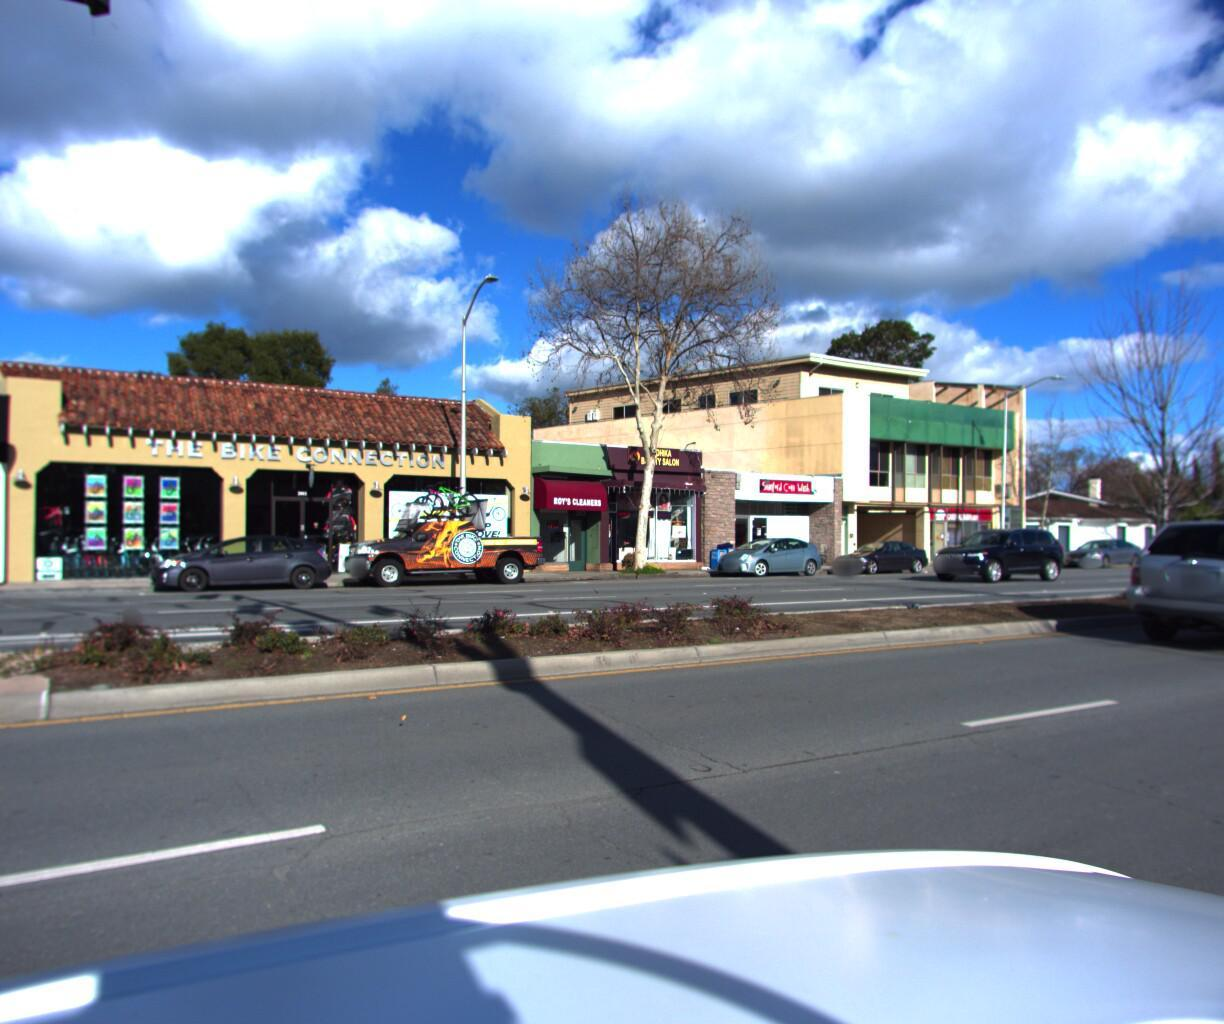car: (336, 483, 549, 591), (1111, 497, 1224, 660), (141, 536, 338, 598), (922, 527, 1067, 583), (706, 536, 825, 580), (824, 540, 931, 578), (1054, 536, 1141, 568)
